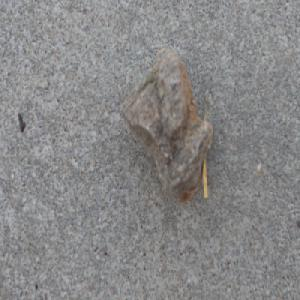Rock: (118, 45, 213, 205)
